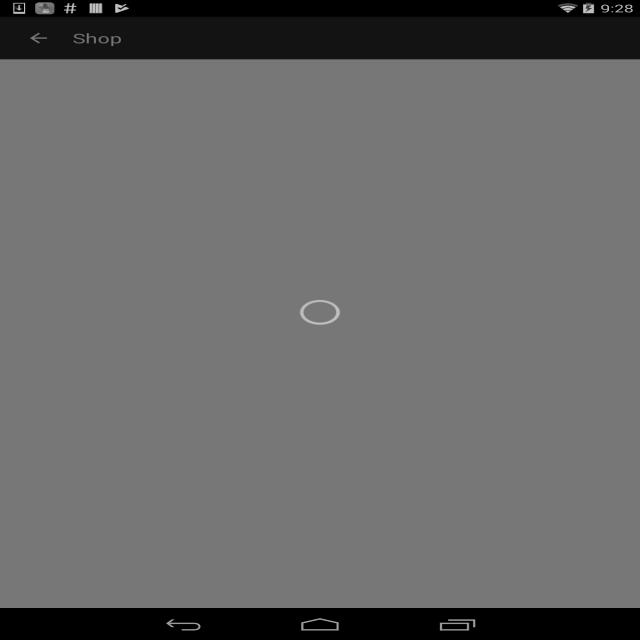Button: (581, 185, 624, 208)
EditText: (11, 185, 586, 208)
ImageButton: (9, 17, 68, 59)
TextView: (73, 29, 122, 47)
